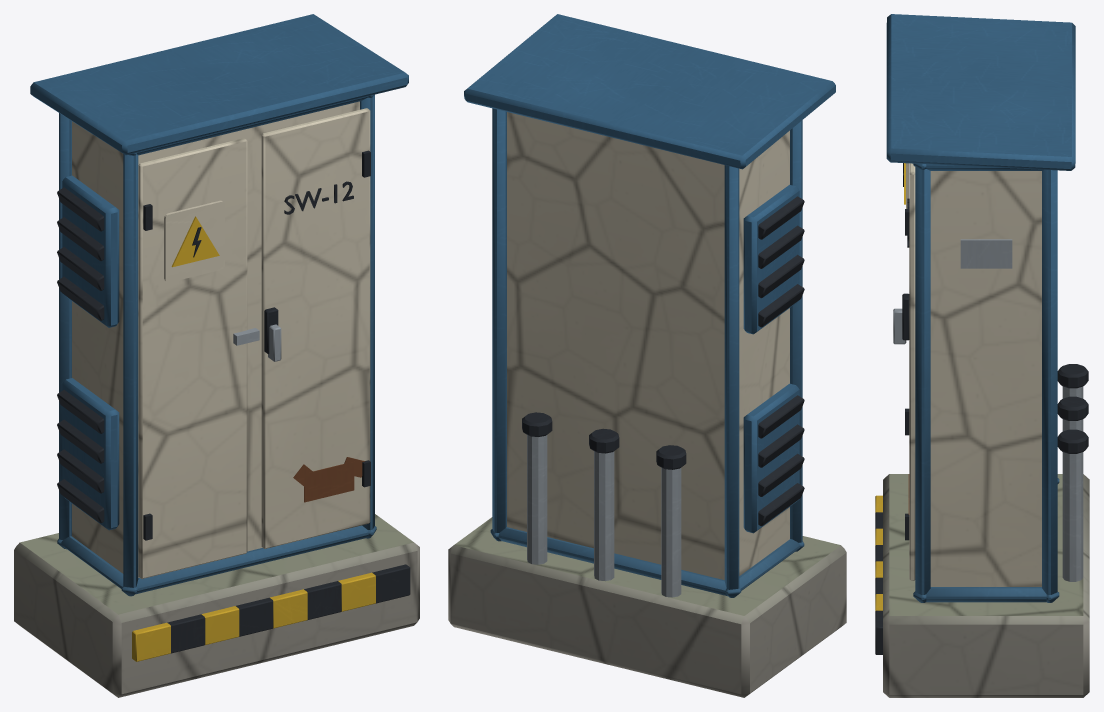
Rendered from switch_cabinet.glb.
The picture shows the model from 3 angles, left to right: view 1: azimuth 30°, elevation 25°; view 2: azimuth 150°, elevation 25°; view 3: azimuth 270°, elevation 25°; orthographic projection.
Parts seen in each view (by area): view 1: switch_cabinet.001; view 2: switch_cabinet.001; view 3: switch_cabinet.001.
Boxes of the visible parts, <box> form: switch_cabinet.001: <box>14,14,419,697</box>; switch_cabinet.001: <box>448,14,846,697</box>; switch_cabinet.001: <box>875,14,1089,697</box>.
Size of the model in its own units: 1.35 by 2.33 by 0.83.
Materials: 10 (10 with a texture image).
